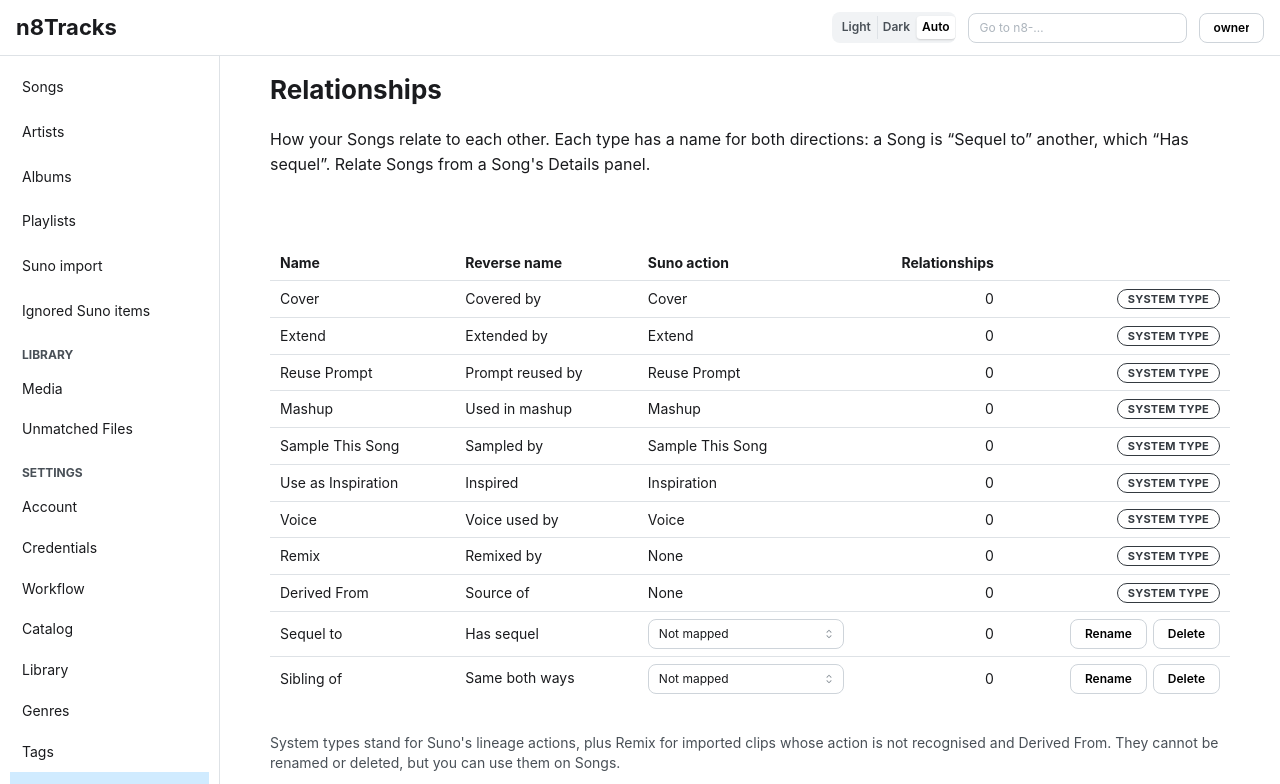
Settings → Relationships › renames one of the user’s types on its revision
Expected: the heading "Relationships" is shown, [270,74,442,105]
Click the button with aria-label "Rename Sequel to".
click(1108, 634)  # box [1070,619,1147,649]
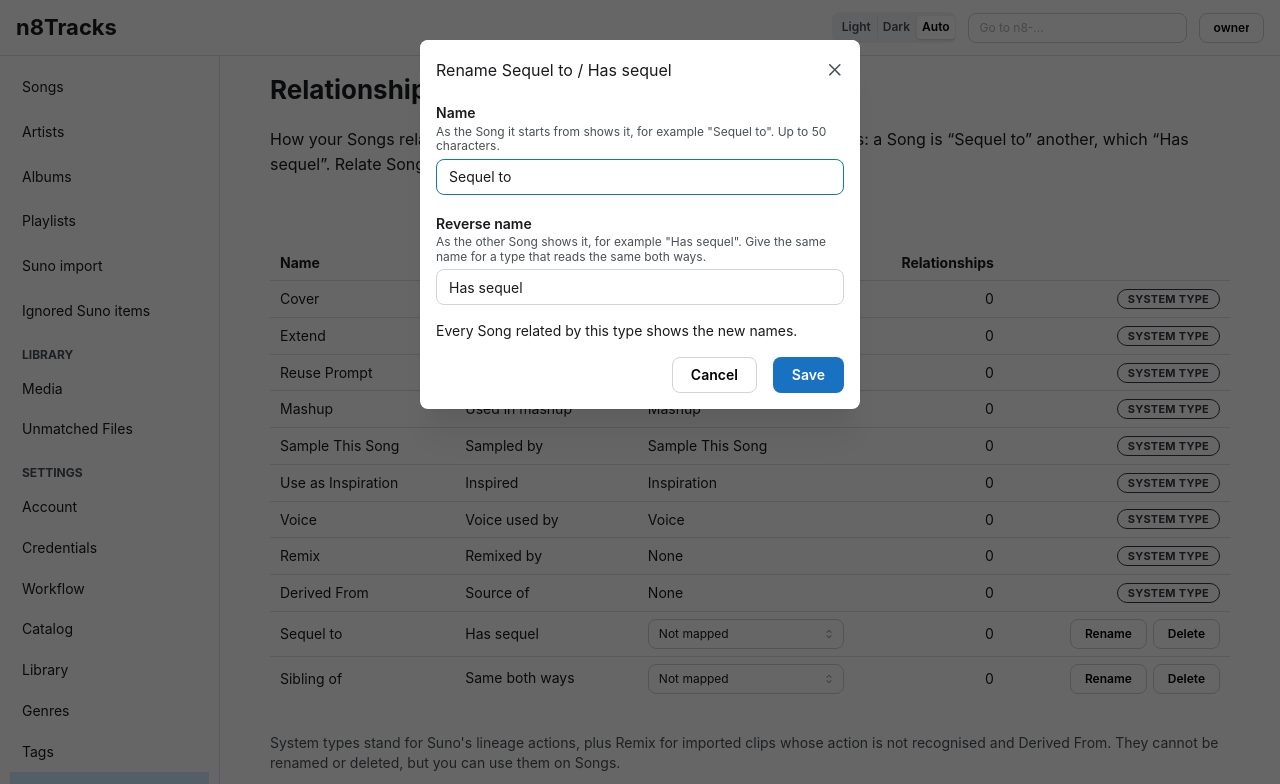
Replace the text in the field labelled "Reverse name" with "Followed by" at (640, 287), box [436,269,844,305]
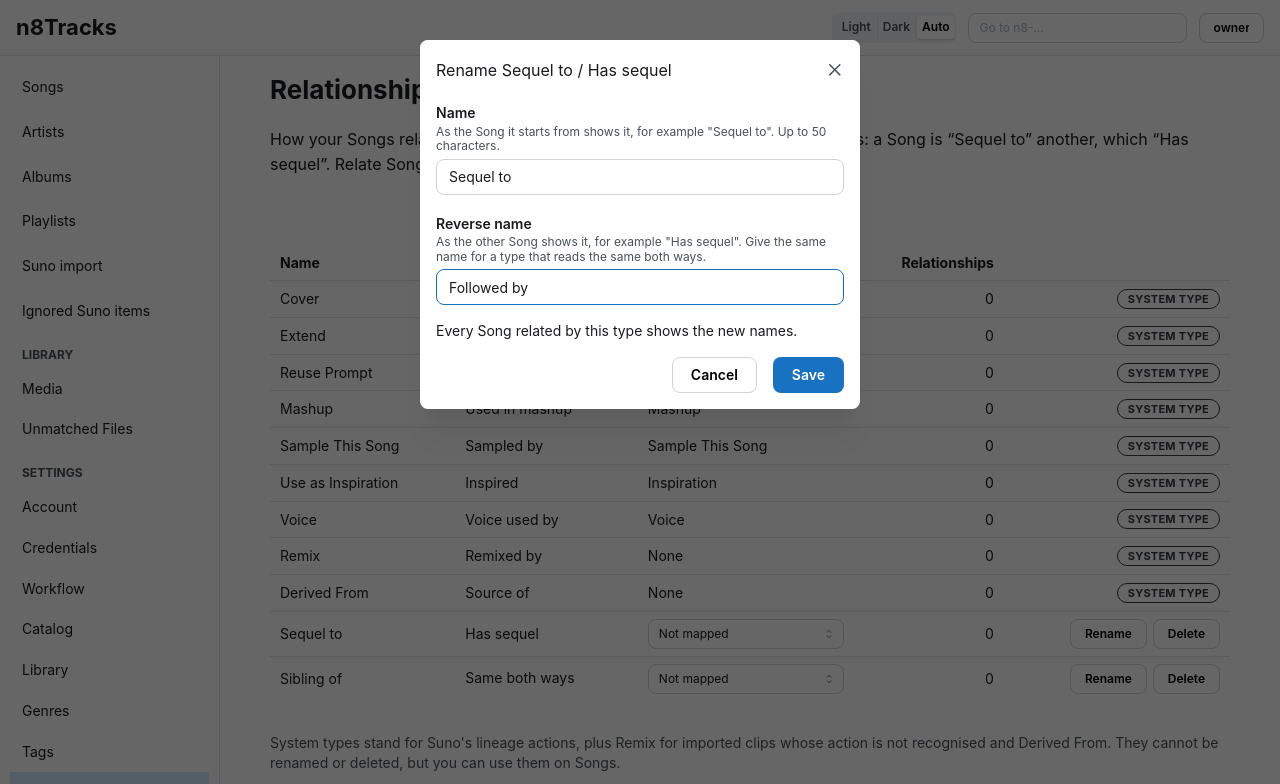
Click the button "Save".
click(808, 376)  # box [773,358,844,394]
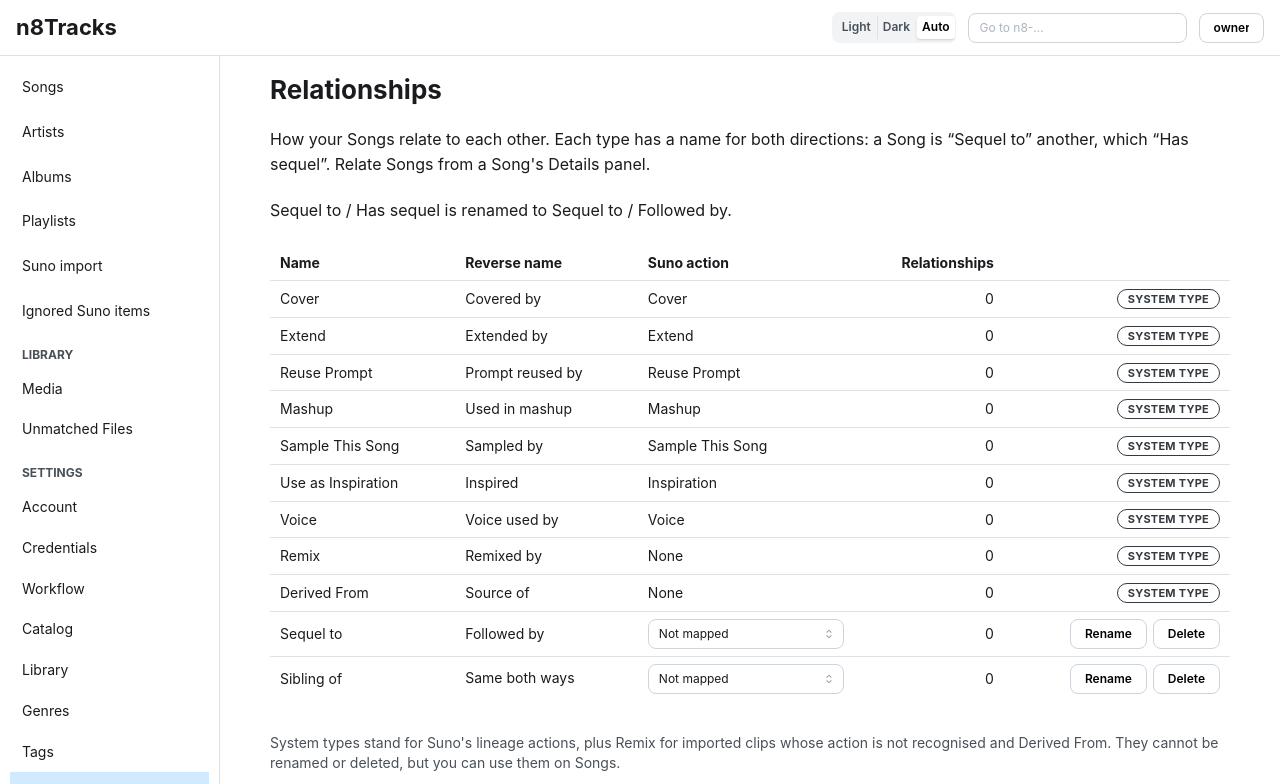
Expected: the text "Sequel to / Has sequel is renamed to Sequel to / Followed by." is shown, [270,198,732,223]
